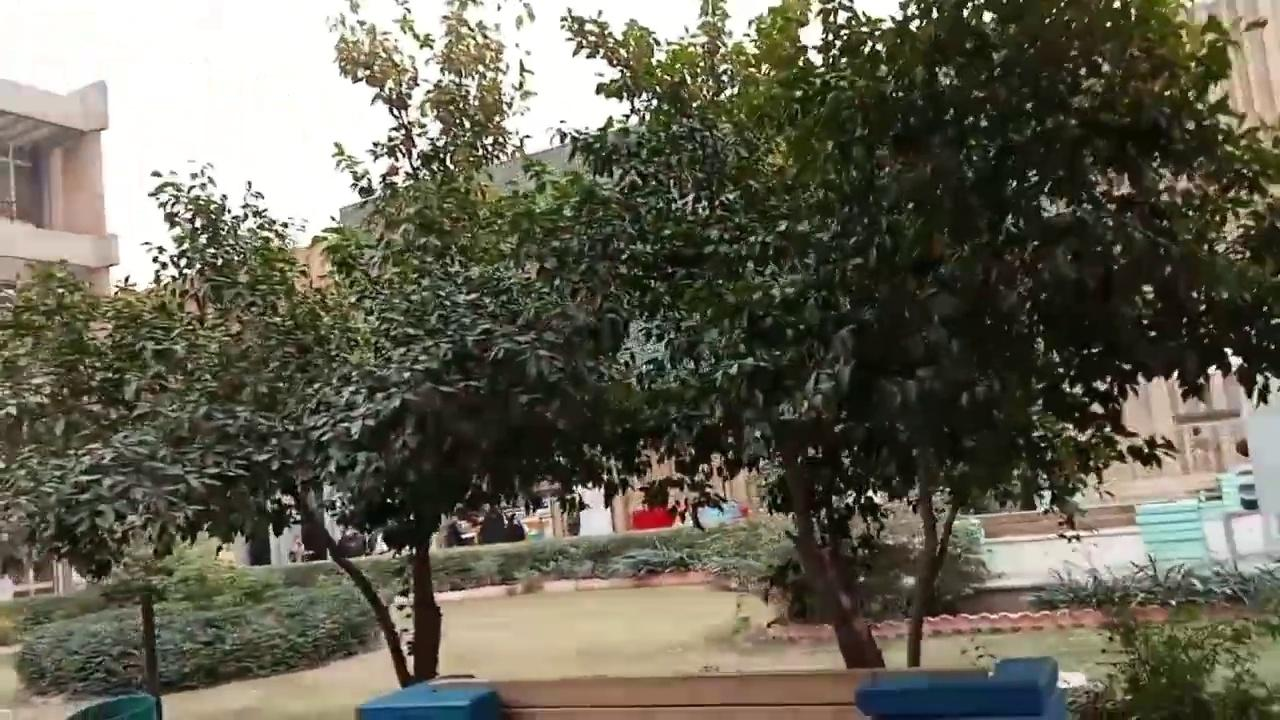person: (289, 535, 304, 562)
tree: (1, 1, 730, 691), (544, 0, 1277, 670), (1, 157, 418, 692)
